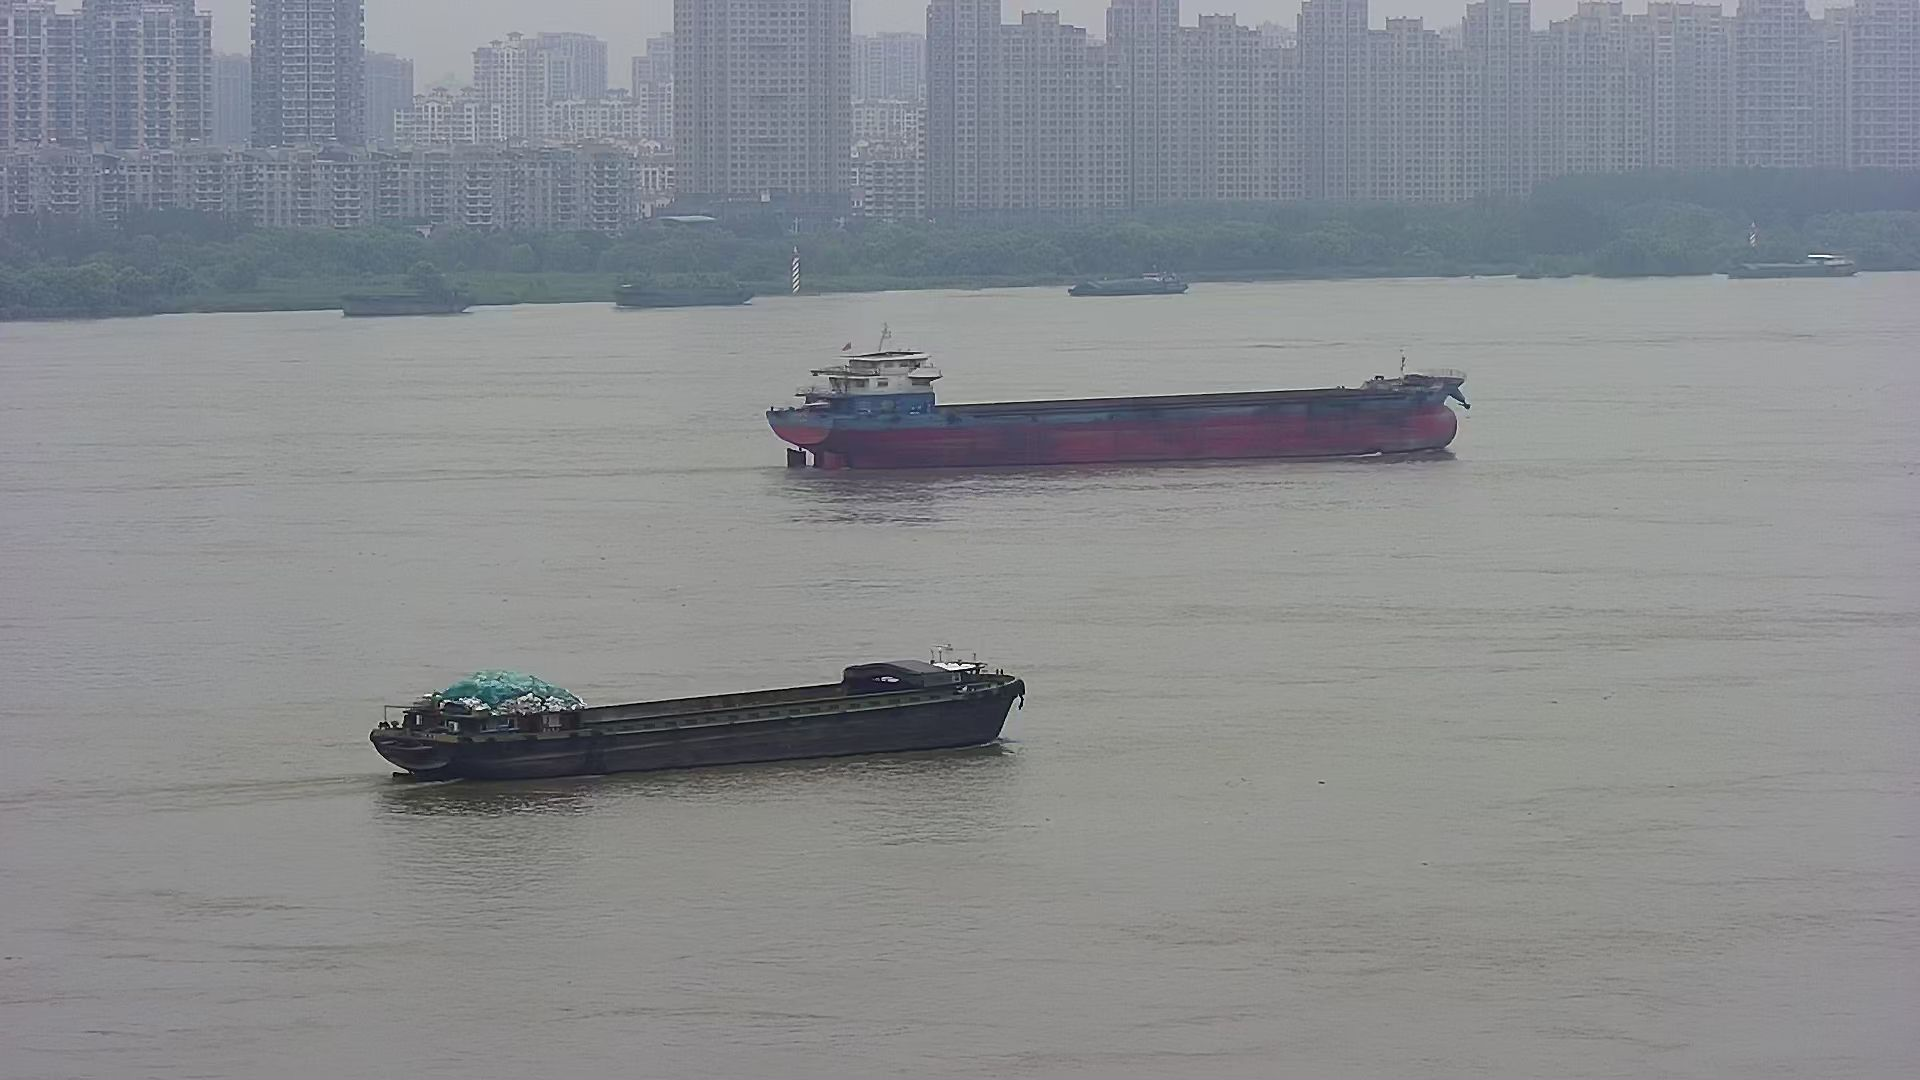ship: (757, 314, 1491, 487), (347, 607, 1036, 782), (588, 266, 774, 315), (1720, 236, 1871, 290), (326, 276, 492, 324), (1051, 256, 1203, 307)
